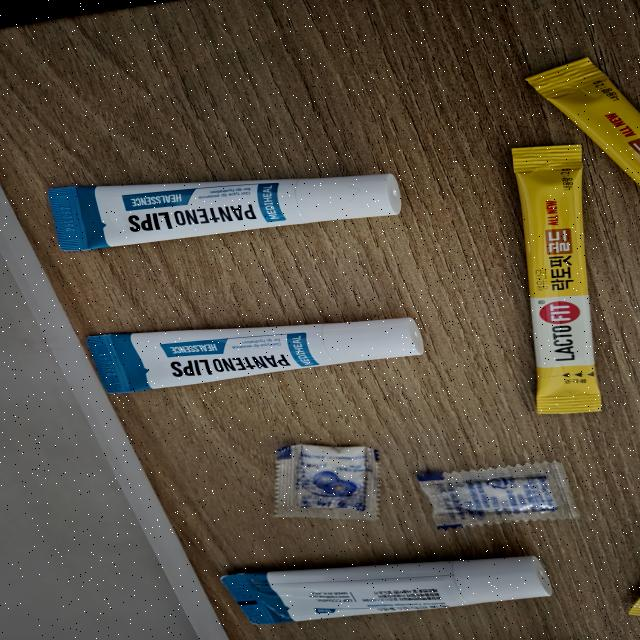lacto: (501, 137, 608, 420), (511, 47, 640, 198), (615, 589, 640, 622)
lip: (28, 157, 420, 258), (69, 308, 438, 404), (207, 548, 566, 633)
salt: (404, 453, 587, 538), (272, 442, 397, 522)
